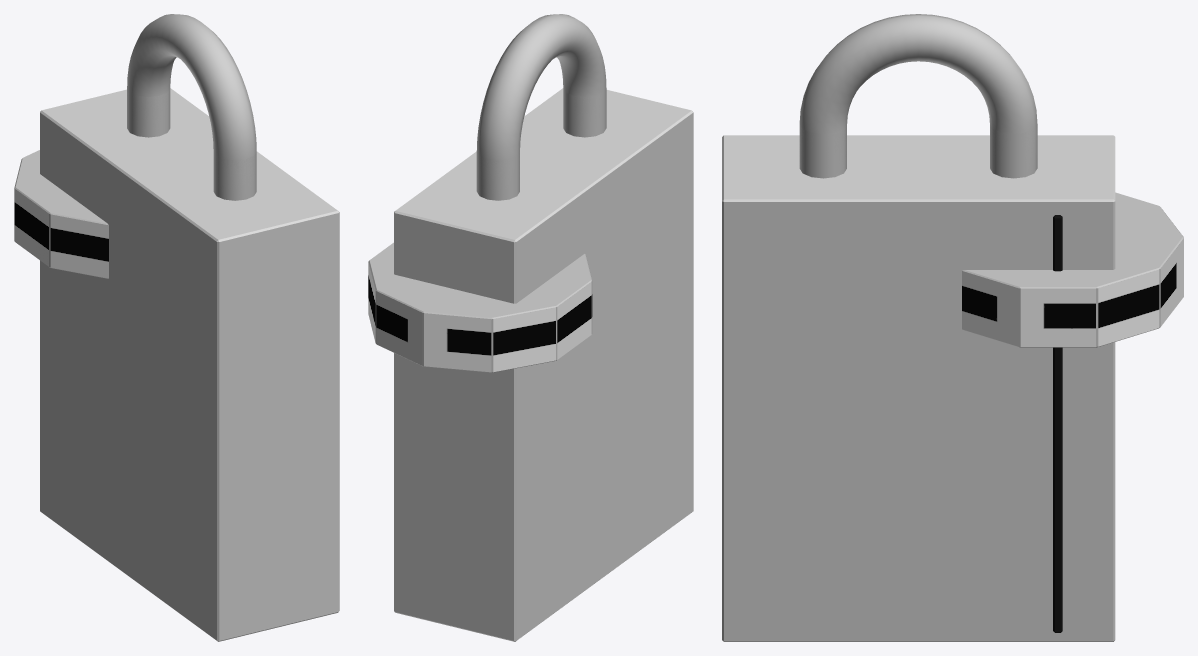
File: padlock.fbx
The picture shows the model from 3 angles, left to right: view 1: azimuth 30°, elevation 25°; view 2: azimuth 150°, elevation 25°; view 3: azimuth 270°, elevation 25°; orthographic projection. The views are drawn at different scales.
Visible parts, largest first — view 1: Body, Lock, Wheel1; view 2: Body, Wheel1, Lock; view 3: Body, Wheel1, Lock.
Boxes of the visible parts, x1,y1,x2,y2 form: Body: [40, 88, 339, 641]; Lock: [127, 14, 256, 200]; Wheel1: [14, 150, 108, 278]; Body: [394, 88, 693, 641]; Wheel1: [368, 242, 592, 372]; Lock: [476, 14, 606, 200]; Body: [722, 135, 1115, 641]; Wheel1: [962, 192, 1183, 347]; Lock: [799, 14, 1037, 178].
Size of the model in its own units: 122 by 334 by 235.
